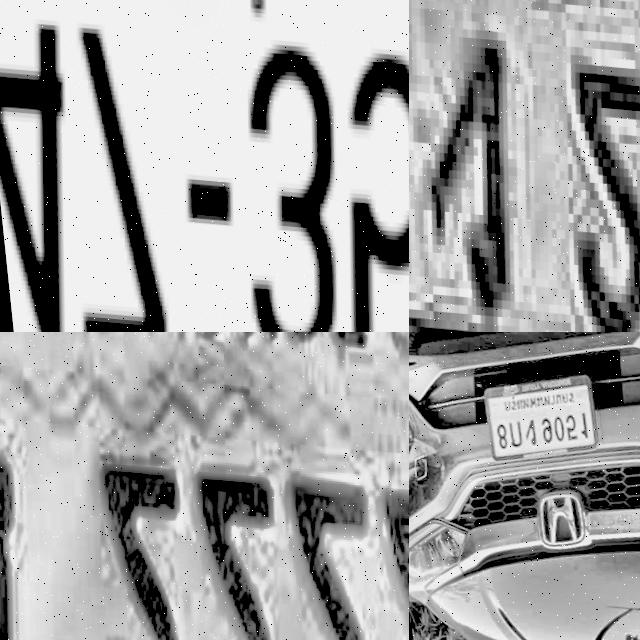license-plate: (0, 0, 409, 332), (0, 332, 409, 640), (409, 0, 640, 332), (465, 358, 604, 478)
